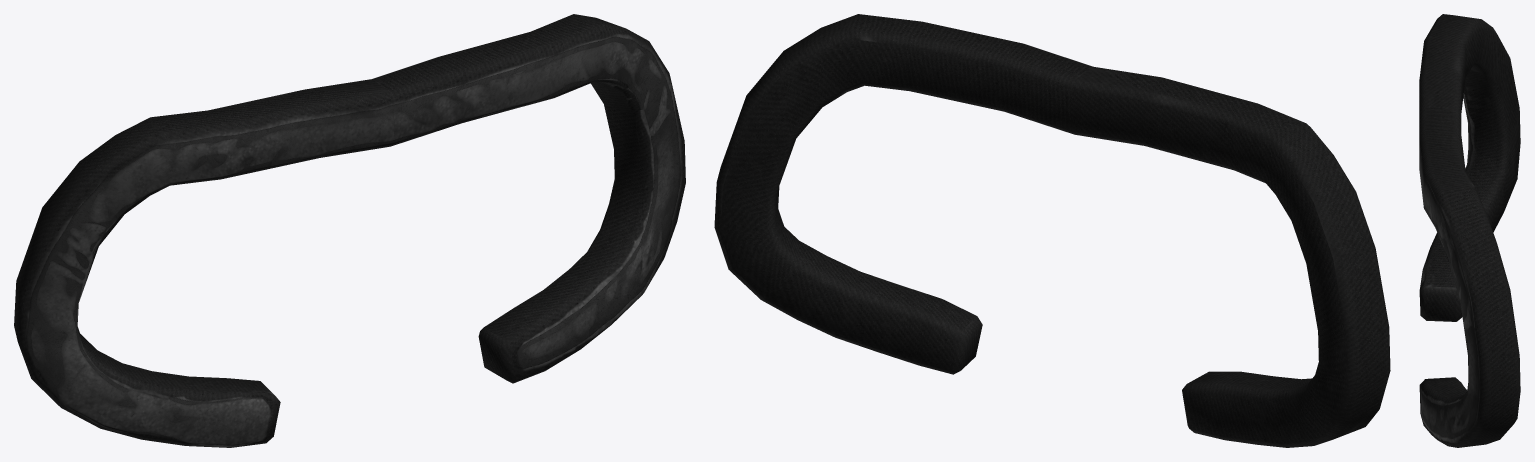
Rendered from Tactal.FBX.
3 views of the same model, side by side, from view 1: azimuth 30°, elevation 25°; view 2: azimuth 150°, elevation 25°; view 3: azimuth 270°, elevation 25° (orthographic). The views are drawn at different scales.
Visible parts, largest first — view 1: Head_01; view 2: Head_01; view 3: Head_01.
Boxes of the visible parts, box(x1,y1,x2,y2) form: Head_01: box(14, 14, 685, 447); Head_01: box(714, 14, 1390, 447); Head_01: box(1419, 14, 1520, 447).
Size of the model in its own units: 0.1911 by 0.0898 by 0.0308.
